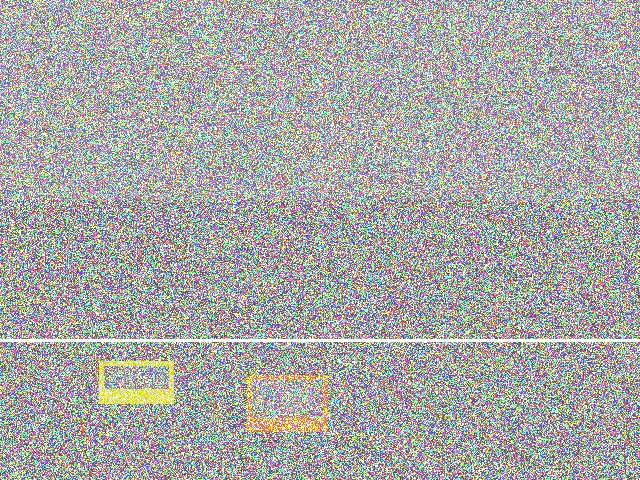bus: (351, 289, 444, 418)
motorcycle: (228, 264, 323, 345)
